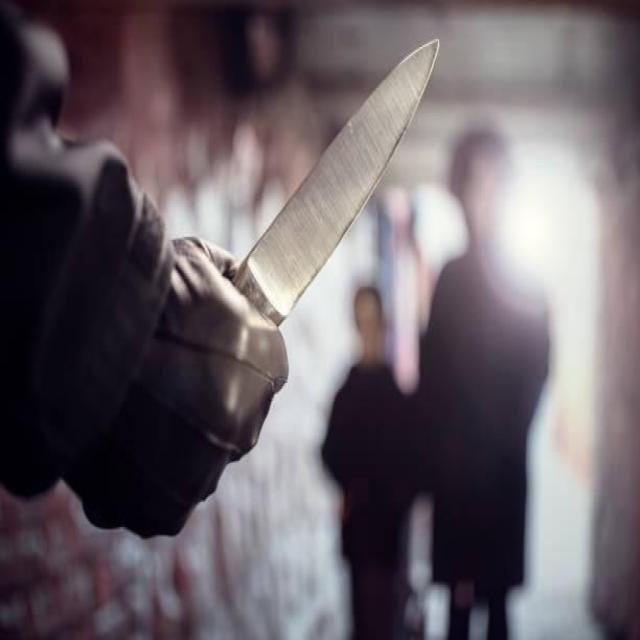faca: (143, 30, 431, 554)
